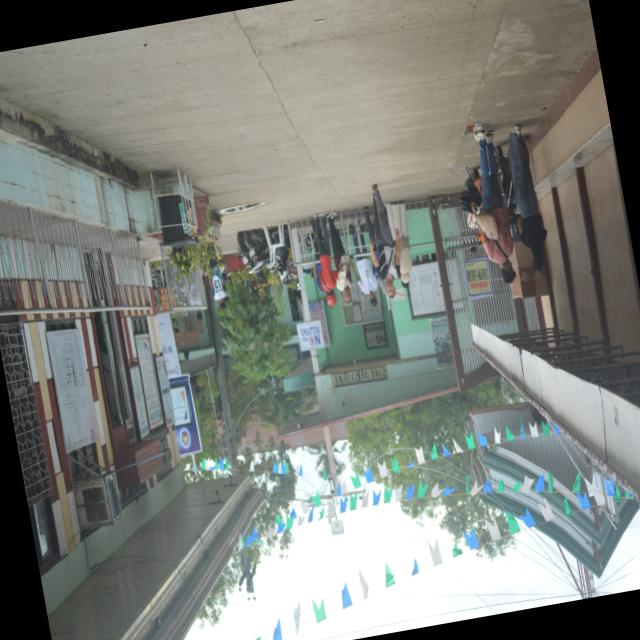person: (474, 131, 515, 283), (509, 124, 546, 269), (369, 184, 400, 297), (326, 212, 352, 303), (312, 213, 337, 306), (350, 227, 377, 305), (386, 202, 411, 286), (251, 270, 266, 303)
